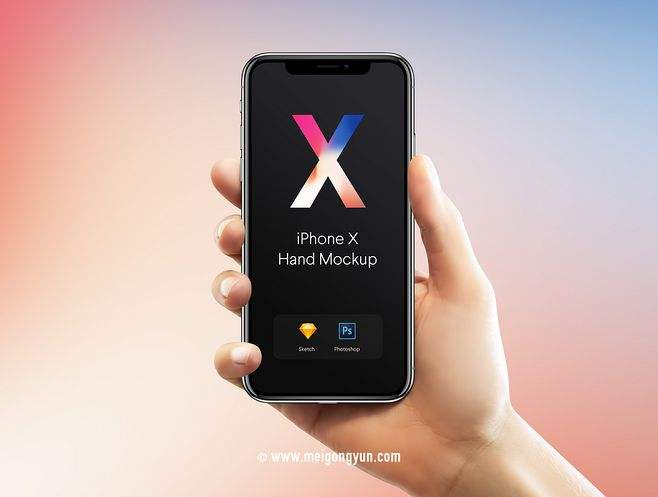phone: (202, 47, 504, 466)
